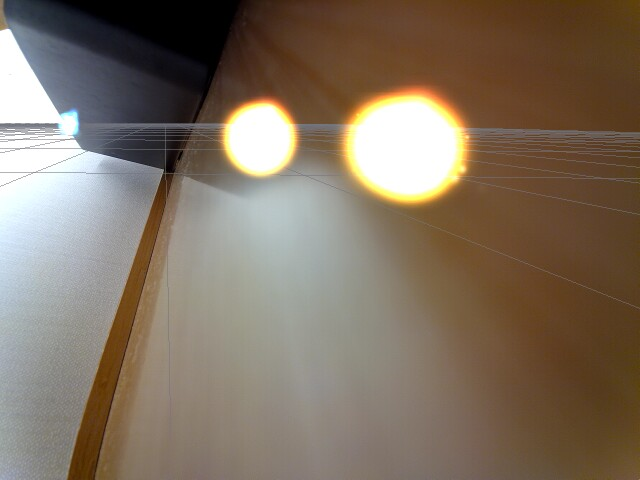firebig: (335, 83, 485, 215)
